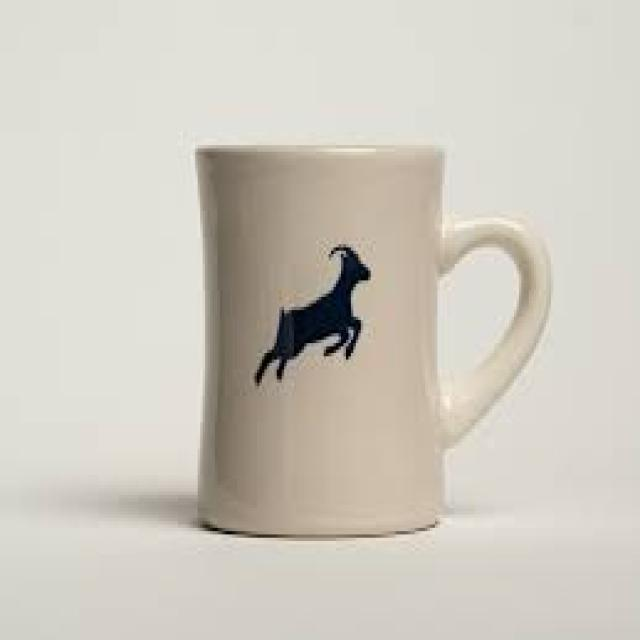taza: (192, 141, 554, 538)
